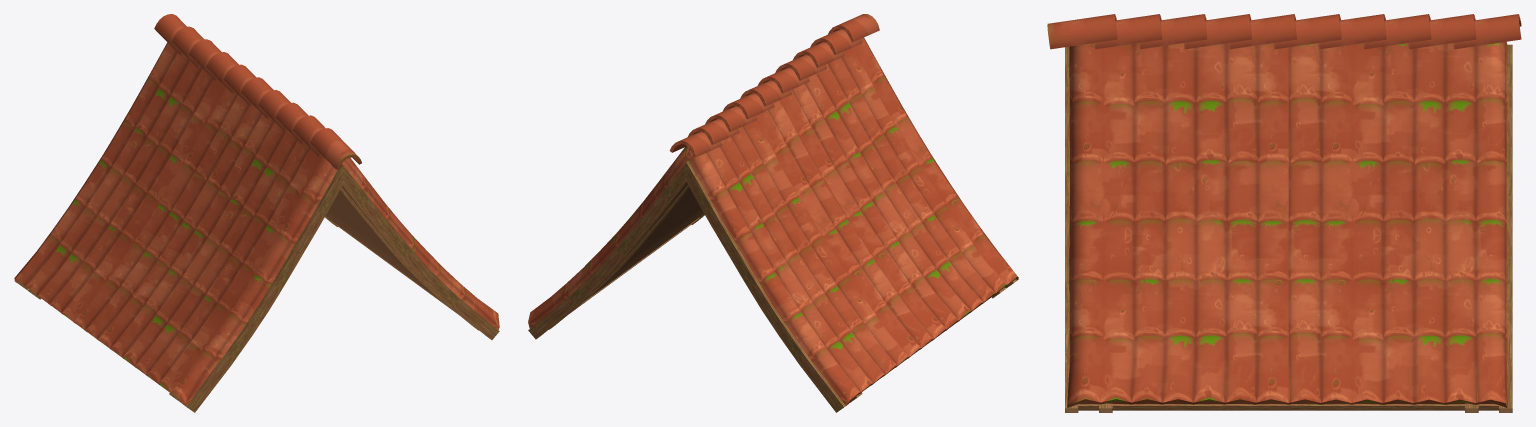
File: Roof_RoundTiles_6x6.gltf
The picture shows the model from 3 angles, left to right: view 1: azimuth 30°, elevation 25°; view 2: azimuth 150°, elevation 25°; view 3: azimuth 270°, elevation 25°; orthographic projection. The views are drawn at different scales.
Parts seen in each view (by area): view 1: Roof_RoundTiles_6x6; view 2: Roof_RoundTiles_6x6; view 3: Roof_RoundTiles_6x6.
Boxes of the visible parts, x1=… form: Roof_RoundTiles_6x6: x1=14, y1=14, x2=499, y2=412; Roof_RoundTiles_6x6: x1=528, y1=14, x2=1018, y2=412; Roof_RoundTiles_6x6: x1=1047, y1=14, x2=1521, y2=412.
Size of the model in its own units: 8.25 by 5.67 by 8.03.
2 materials, 2 textured.
